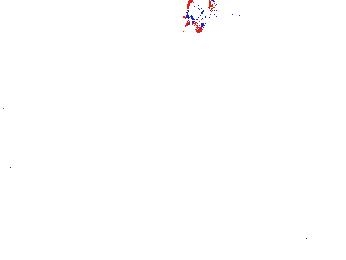redtail glassfish: (181, 1, 217, 35)
